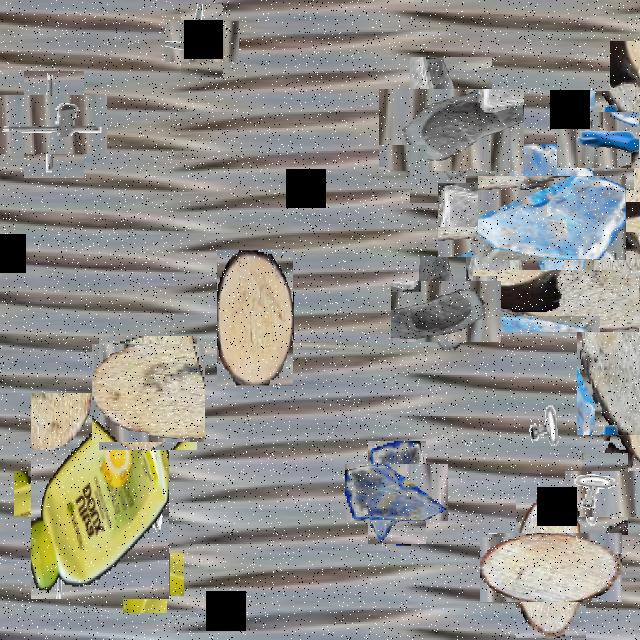glass: (494, 160, 610, 277), (394, 73, 508, 187), (452, 169, 554, 272), (403, 268, 489, 354), (357, 452, 437, 533)
metal: (12, 83, 96, 166), (515, 347, 575, 453), (567, 101, 640, 179), (22, 462, 86, 526), (573, 462, 637, 526), (114, 544, 176, 604), (173, 12, 231, 70)
plastic: (31, 393, 169, 599), (529, 121, 640, 312)
wood: (525, 217, 640, 383), (498, 514, 604, 620), (95, 340, 201, 446), (217, 250, 293, 386), (598, 343, 640, 471)
